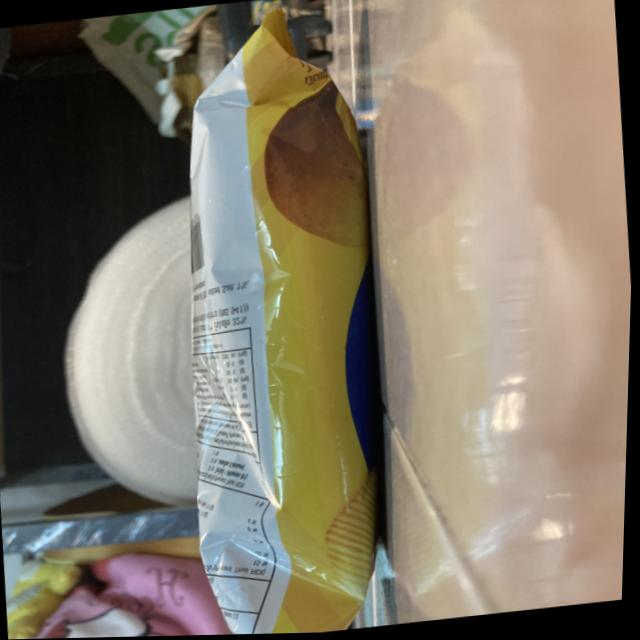LayYellow: (140, 30, 423, 637)
